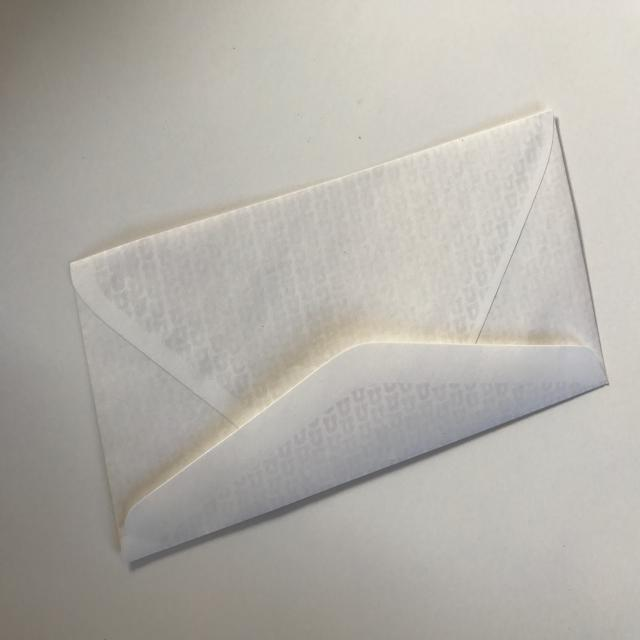paper: (62, 110, 610, 564)
